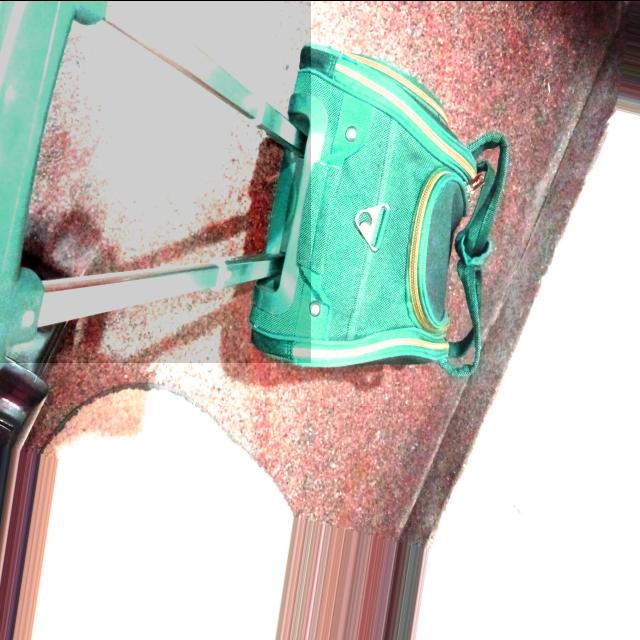Bag: (0, 1, 525, 401)
Handle: (2, 0, 302, 359)
